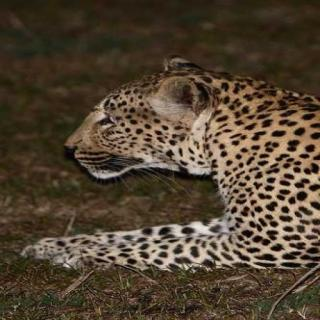Leopard: (78, 66, 320, 271)
